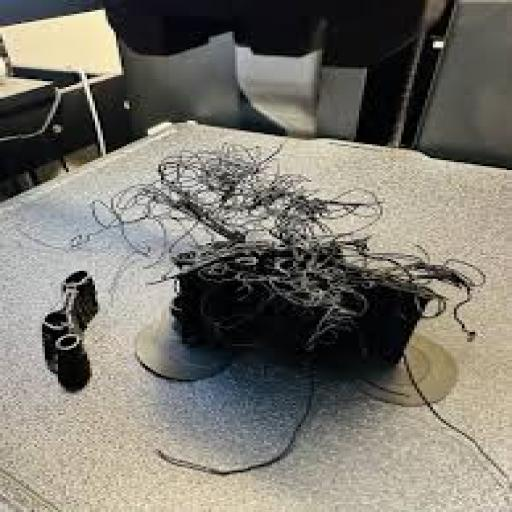spaghetti: (68, 126, 406, 296)
